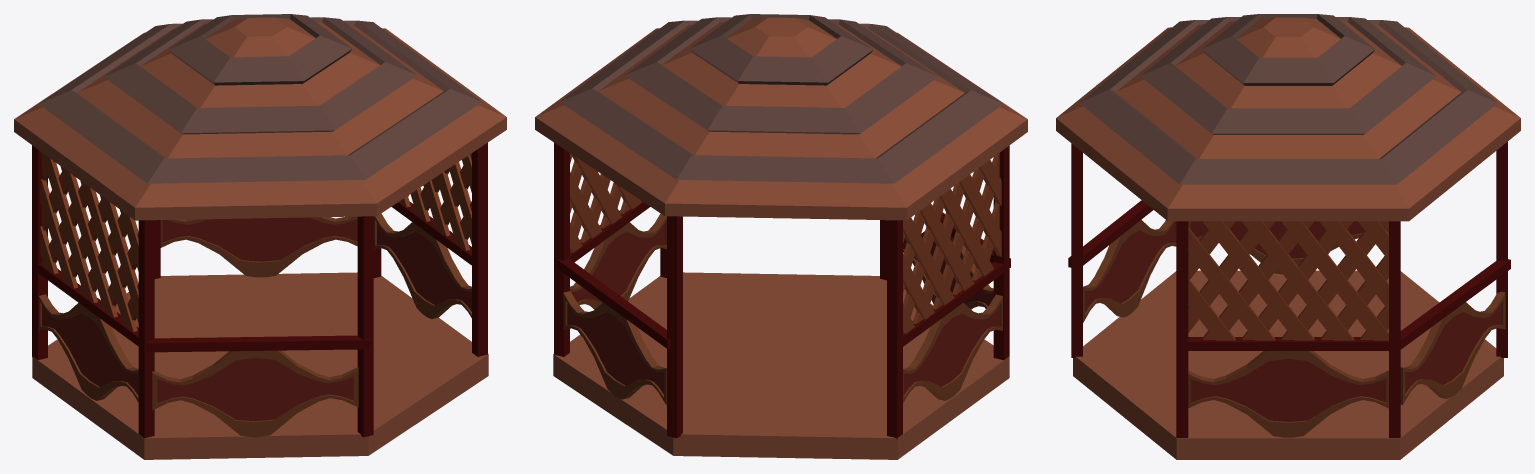
The model's file is Pavilion.fbx.
3 views of the same model, side by side, from view 1: azimuth 30°, elevation 25°; view 2: azimuth 150°, elevation 25°; view 3: azimuth 270°, elevation 25° (orthographic).
Visible parts, largest first — view 1: Plane.001, Plane, Plane.004, Plane.007, Plane.005, Plane.003, Plane.002, Cube.005, Cube, Plane.006, Cube.003, Cube.008 (+3 smaller); view 2: Plane.001, Plane, Plane.007, Plane.005, Plane.003, Plane.002, Cube.004, Cube.001, Plane.006, Cube.002, Cube, Cube.009 (+3 smaller); view 3: Plane.001, Plane, Plane.006, Plane.002, Plane.005, Plane.004, Cube.003, Cube.002, Cube.005, Cube.006, Cube.009, Cube.004 (+2 smaller).
Part boxes in pixels (box(x1,y1,x2,y2)): Plane.001: box(14, 14, 506, 220); Plane: box(32, 272, 488, 459); Plane.004: box(152, 350, 358, 437); Plane.007: box(40, 152, 138, 331); Plane.005: box(160, 216, 357, 277); Plane.003: box(39, 294, 138, 402); Plane.002: box(373, 213, 471, 318); Cube.005: box(357, 216, 373, 437); Cube: box(138, 220, 154, 438); Plane.006: box(399, 153, 471, 250); Cube.003: box(472, 142, 487, 356); Cube.008: box(146, 335, 369, 352); Plane.001: box(535, 14, 1027, 220); Plane: box(553, 272, 1009, 459); Plane.007: box(903, 153, 1001, 333); Plane.005: box(563, 291, 666, 405); Plane.003: box(903, 294, 1002, 402); Plane.002: box(570, 213, 666, 309); Cube.004: box(667, 216, 682, 438); Cube.001: box(887, 220, 902, 439); Plane.006: box(570, 153, 641, 252); Cube.002: box(554, 142, 569, 356); Cube: box(993, 145, 1009, 360); Cube.009: box(556, 258, 670, 349); Plane.001: box(1056, 14, 1520, 221); Plane: box(1073, 270, 1503, 459); Plane.006: box(1188, 221, 1388, 340); Plane.002: box(1188, 351, 1388, 437); Plane.005: box(1400, 291, 1505, 404); Plane.004: box(1083, 220, 1176, 322); Cube.003: box(1176, 221, 1188, 437); Cube.002: box(1389, 221, 1400, 437); Cube.005: box(1071, 143, 1082, 357); Cube.006: box(1188, 337, 1388, 350); Cube.009: box(1400, 259, 1510, 349); Cube.004: box(1496, 141, 1507, 357).
Size of the model in its own units: 990 by 890 by 1075.
